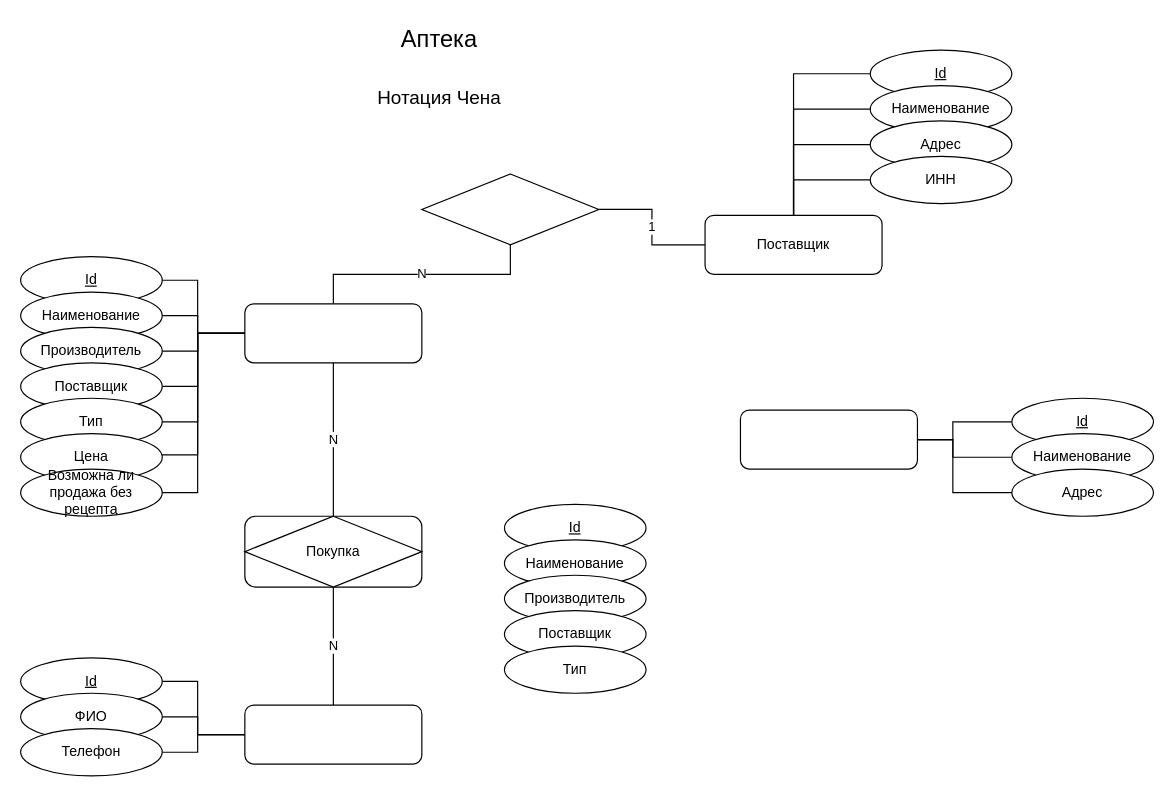
Image size: 1174x796. Some labels were removed from this diagram. Each missing label, with the box of its shape:
Лекарство: (244, 303, 422, 363)
Покупатель: (244, 704, 422, 764)
Поставляет: (421, 173, 599, 245)
Филиал: (739, 409, 917, 469)
